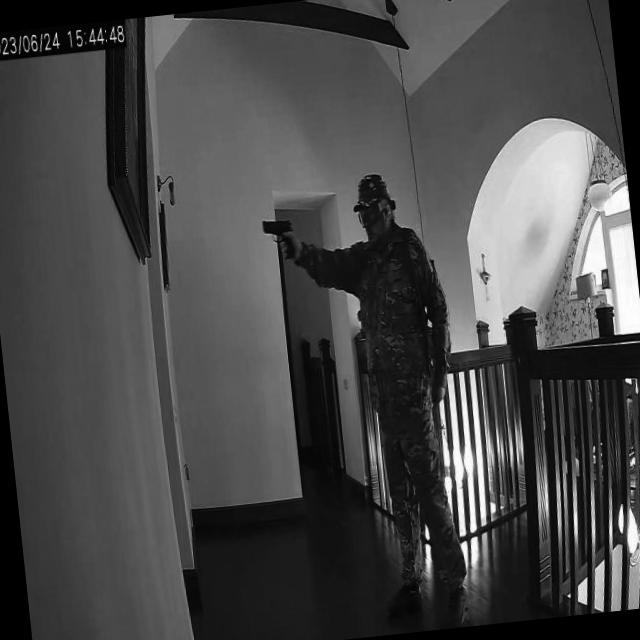gun: (260, 216, 296, 259)
person with a gun: (292, 164, 482, 638)
